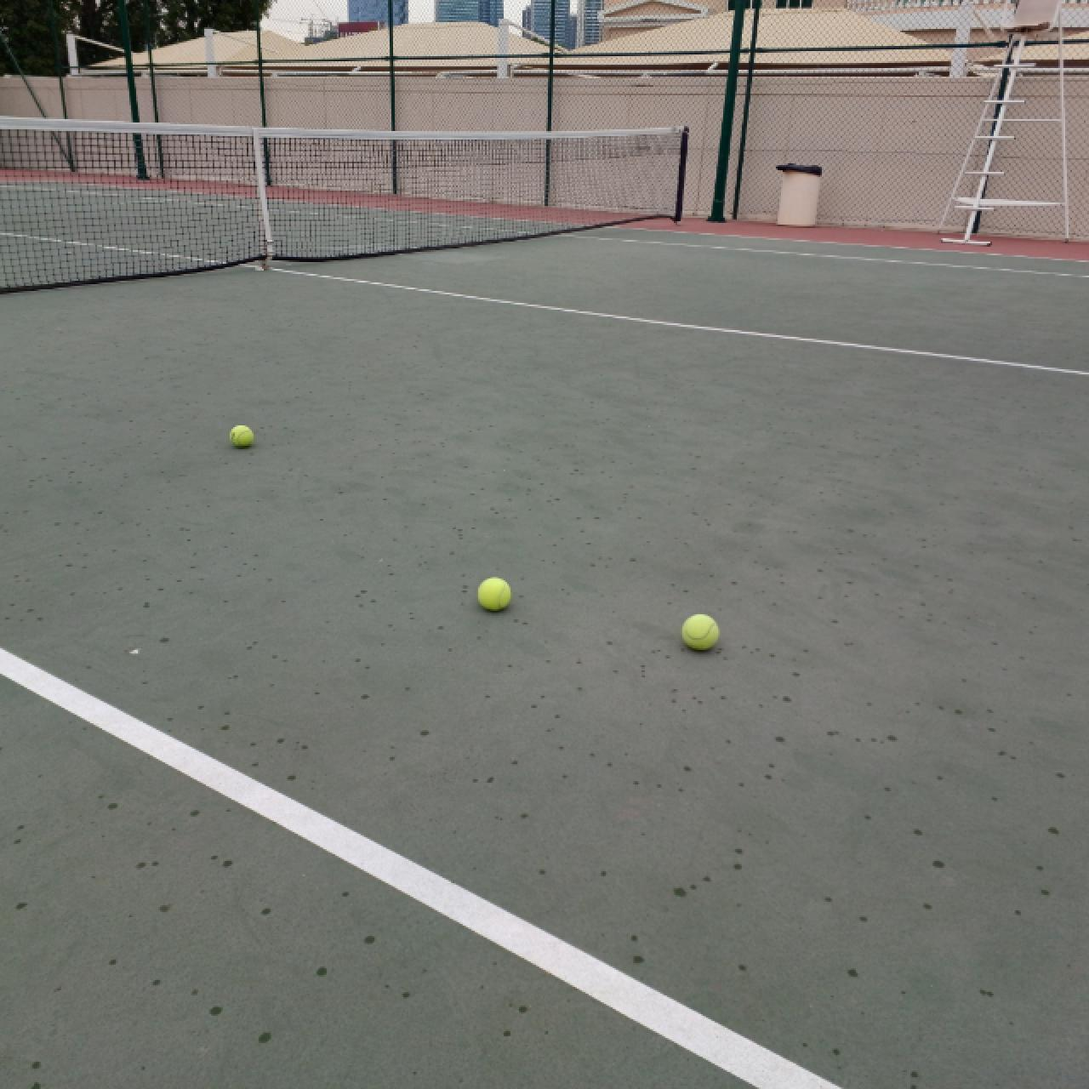tennis-ball: (680, 611, 719, 653), (476, 575, 512, 612), (229, 422, 254, 449)
